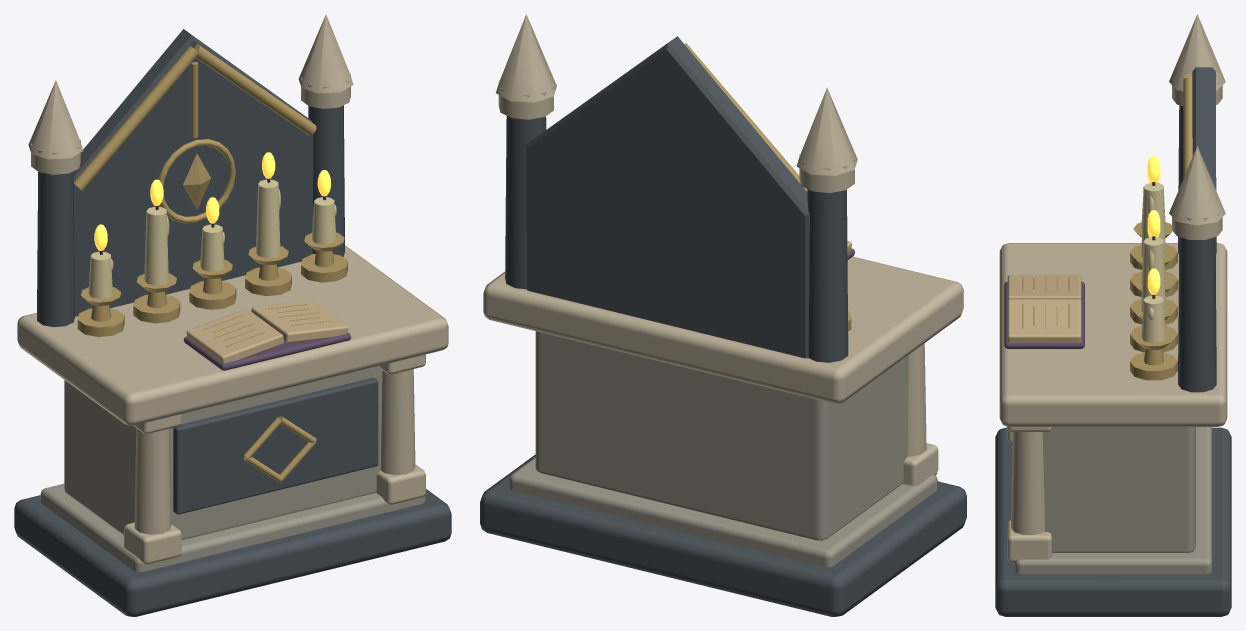
Rendered from shrine.glb.
3 renders of one model, left to right at view 1: azimuth 30°, elevation 25°; view 2: azimuth 150°, elevation 25°; view 3: azimuth 270°, elevation 25°, orthographic. The views are drawn at different scales.
Parts seen in each view (by area): view 1: surface.masonry, surface.flagstone.pale, surface.flagstone, surface.metal, wax, vellum, surface.cloth, candle-flame; view 2: surface.masonry, surface.flagstone, surface.flagstone.pale, surface.metal; view 3: surface.flagstone.pale, surface.flagstone, surface.masonry, surface.metal, vellum, wax, candle-flame, surface.cloth.
Boxes of the visible parts, x1=… form: surface.masonry: x1=14, y1=29, x2=451, y2=616; surface.flagstone.pale: x1=17, y1=14, x2=448, y2=564; surface.flagstone: x1=40, y1=366, x2=425, y2=572; surface.metal: x1=73, y1=44, x2=347, y2=482; wax: x1=88, y1=179, x2=336, y2=298; vellum: x1=186, y1=300, x2=348, y2=363; surface.cloth: x1=183, y1=333, x2=351, y2=370; candle-flame: x1=94, y1=152, x2=330, y2=250; surface.masonry: x1=480, y1=36, x2=966, y2=616; surface.flagstone: x1=509, y1=331, x2=937, y2=567; surface.flagstone.pale: x1=483, y1=14, x2=963, y2=486; surface.metal: x1=684, y1=43, x2=851, y2=331; surface.flagstone.pale: x1=999, y1=14, x2=1227, y2=562; surface.flagstone: x1=1014, y1=427, x2=1212, y2=574; surface.masonry: x1=995, y1=67, x2=1231, y2=616; surface.metal: x1=1022, y1=73, x2=1192, y2=380; vellum: x1=1007, y1=274, x2=1081, y2=342; wax: x1=1141, y1=182, x2=1165, y2=342; candle-flame: x1=1147, y1=155, x2=1160, y2=294; surface.cloth: x1=1004, y1=281, x2=1084, y2=348.
Size of the model in its own units: 1.26 by 1.75 by 0.79.
